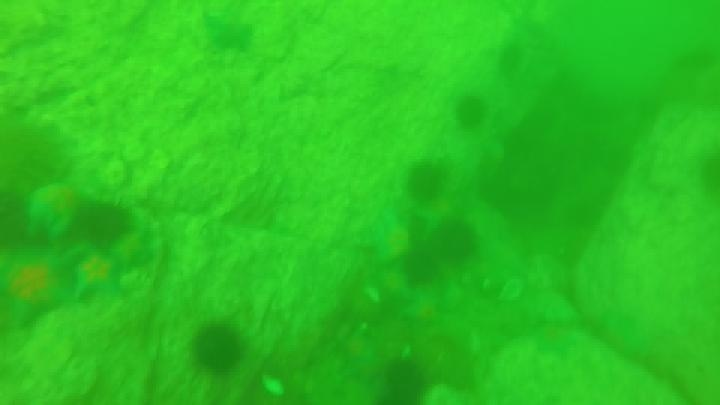echinus: (189, 321, 246, 377), (74, 199, 134, 248), (380, 356, 431, 404), (432, 217, 480, 266), (1, 186, 33, 252), (404, 159, 449, 205), (399, 246, 442, 288), (452, 93, 489, 131), (696, 148, 720, 201), (495, 40, 527, 78)
starfish: (1, 250, 80, 334), (20, 170, 101, 235), (360, 210, 414, 268), (69, 249, 127, 301), (333, 326, 386, 382), (202, 11, 258, 57), (107, 229, 158, 275), (529, 320, 580, 361)
